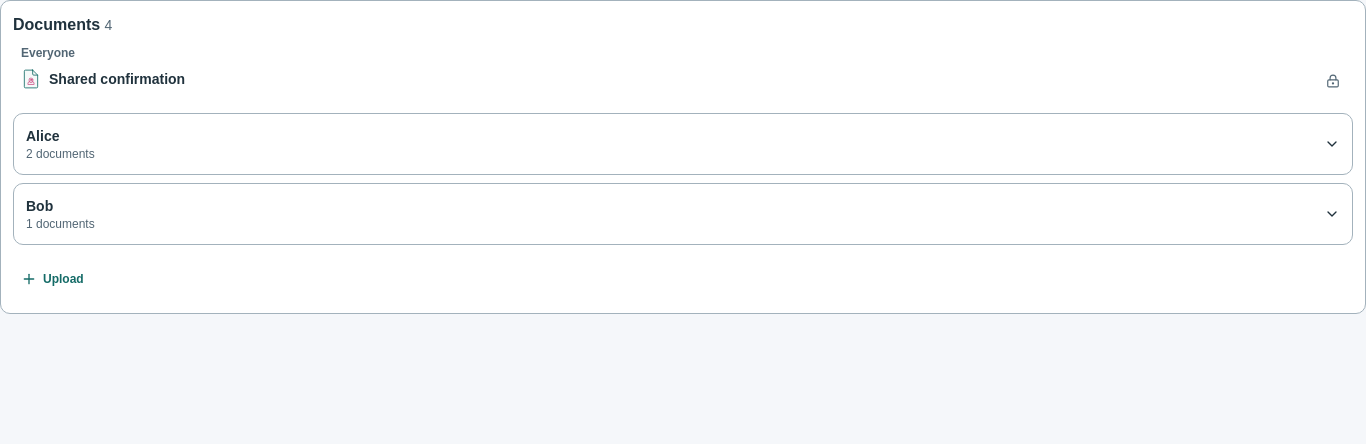
reading-first booking sections › groups personal documents once, leaves shared documents visible, and sorts admission before vouchers
Expected: the link "Shared confirmation" is shown, [21,69,185,89]
Click the text "Alice": (43, 136) [26,128,60,144]
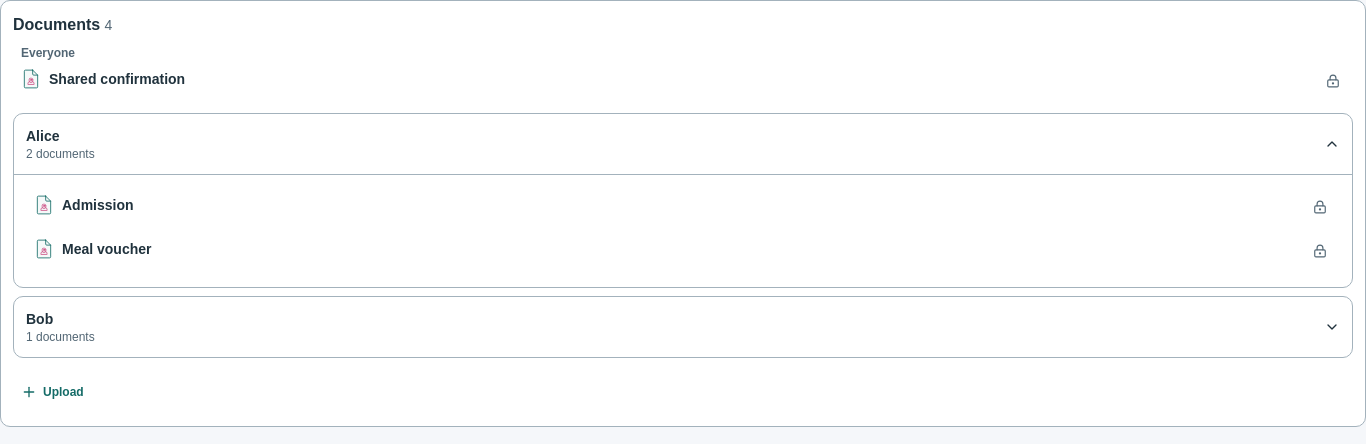
Expected: the link "Admission" does not show "Only me", [34,195,134,215]
Expected: the link "Admission" is shown, [34,195,134,215]
Expected: the link "Meal voucher" is shown, [34,239,152,259]
Click the button named "Who can open Admission?": (1320, 207) [1304,191,1336,223]
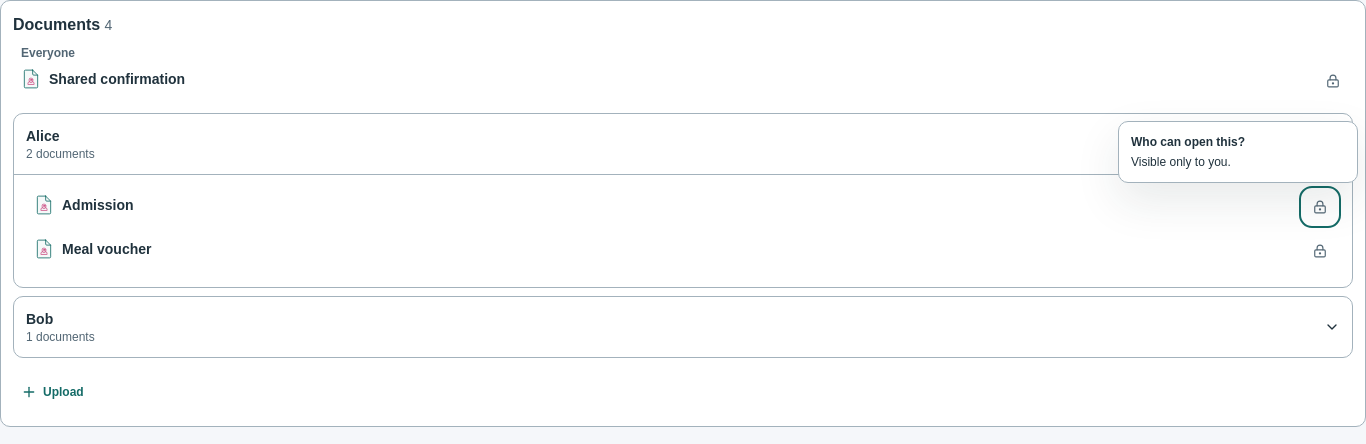
Expected: the tooltip shows "Visible only to you", [1131,155,1228,169]
